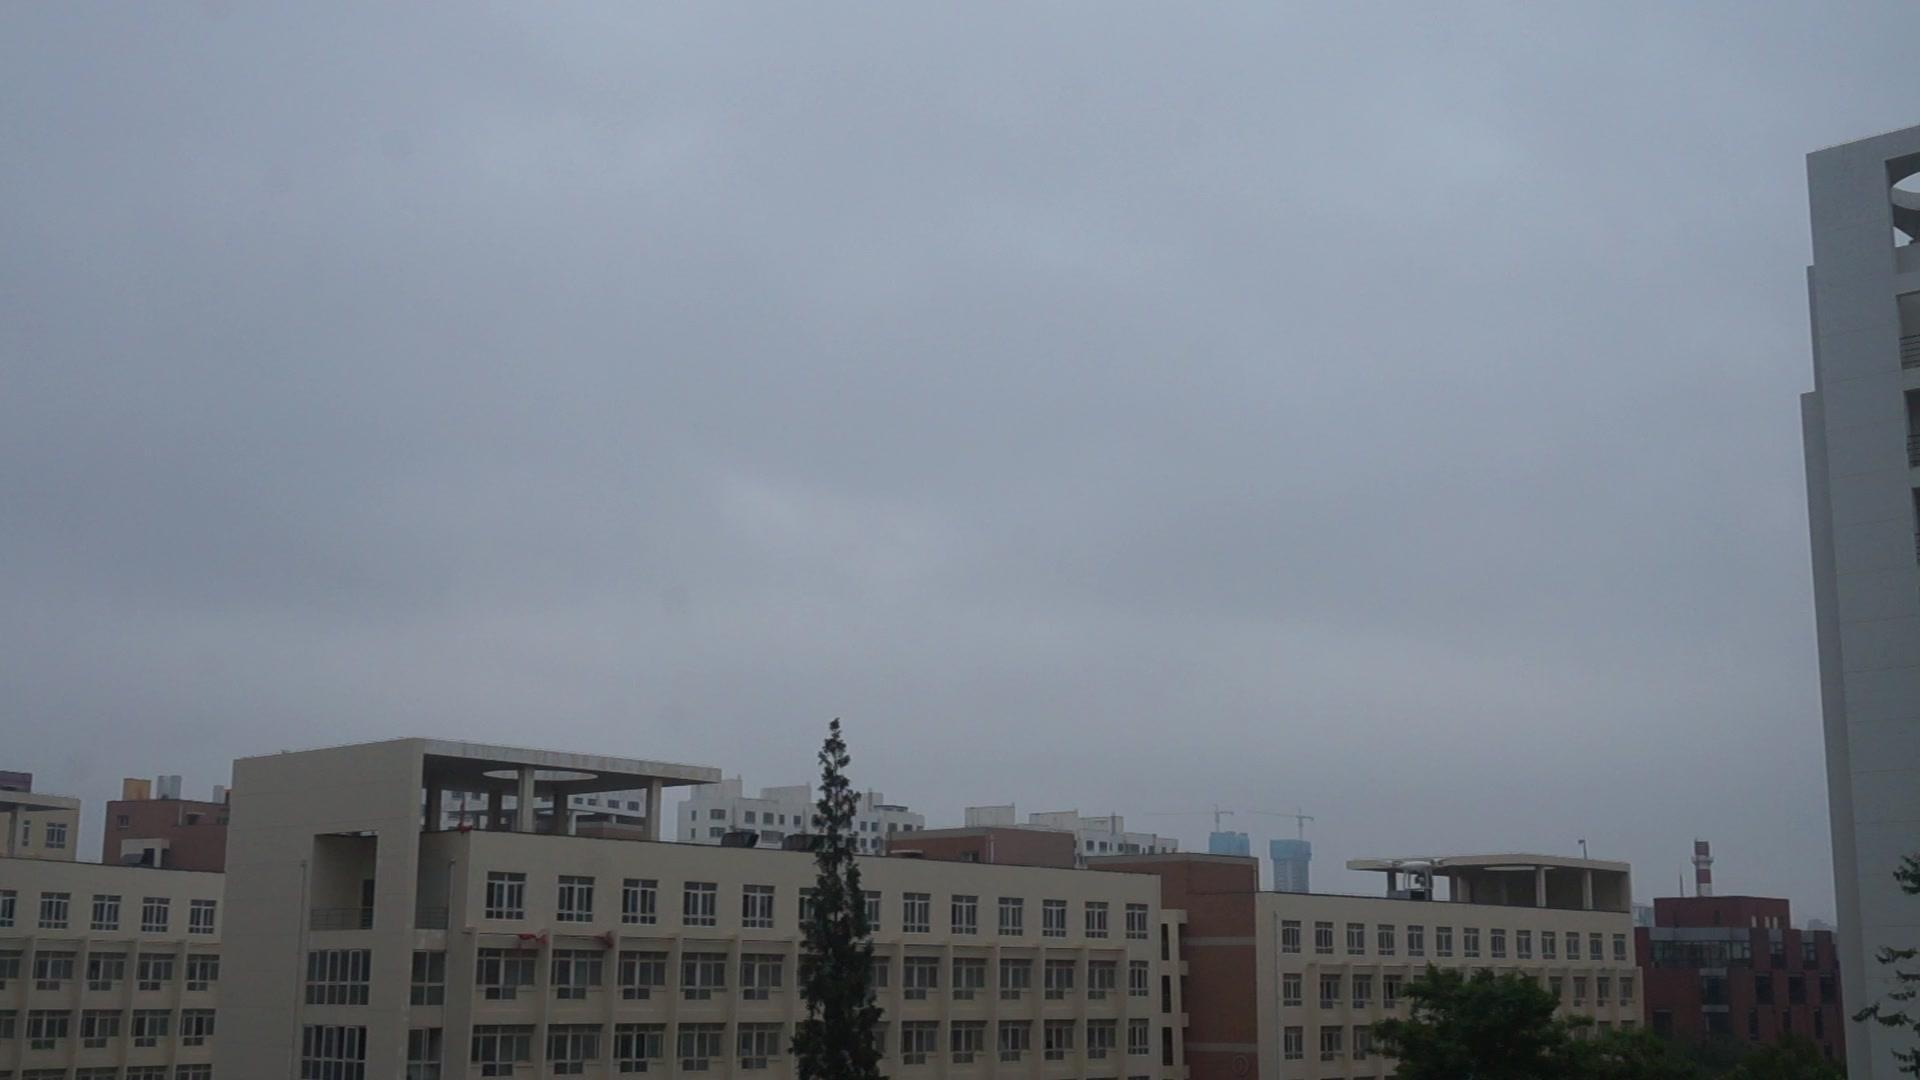UAV: (1385, 858, 1451, 891)
